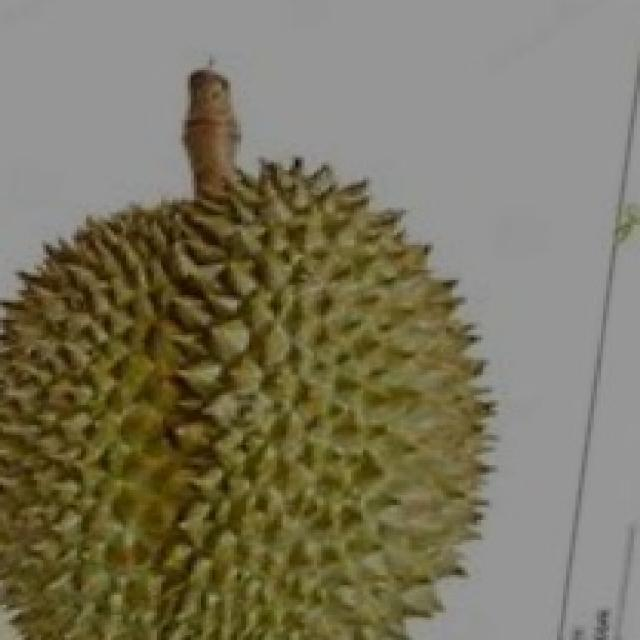fruit: (200, 245, 554, 640)
